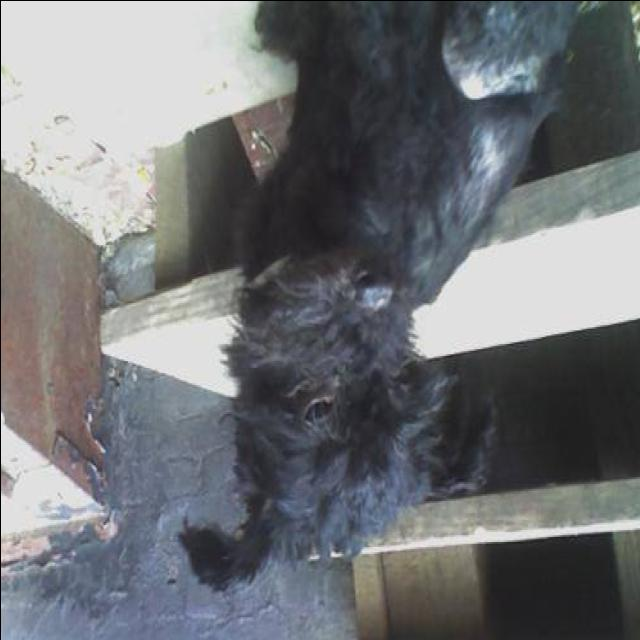dog: (172, 0, 581, 604)
